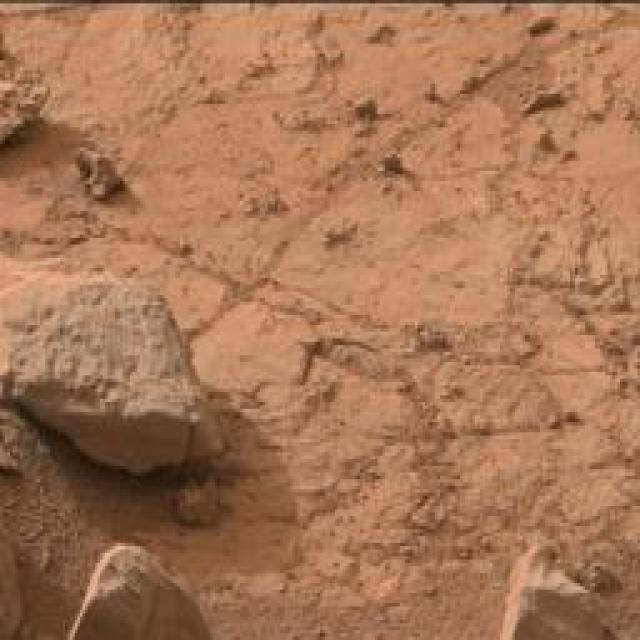rock: (0, 268, 230, 483), (69, 541, 220, 640), (500, 539, 618, 640), (0, 9, 52, 153), (73, 142, 124, 202), (172, 474, 222, 526)
